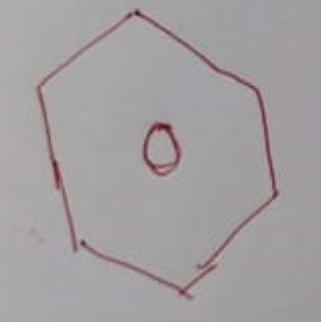shape_mask: (25, 2, 293, 307)
